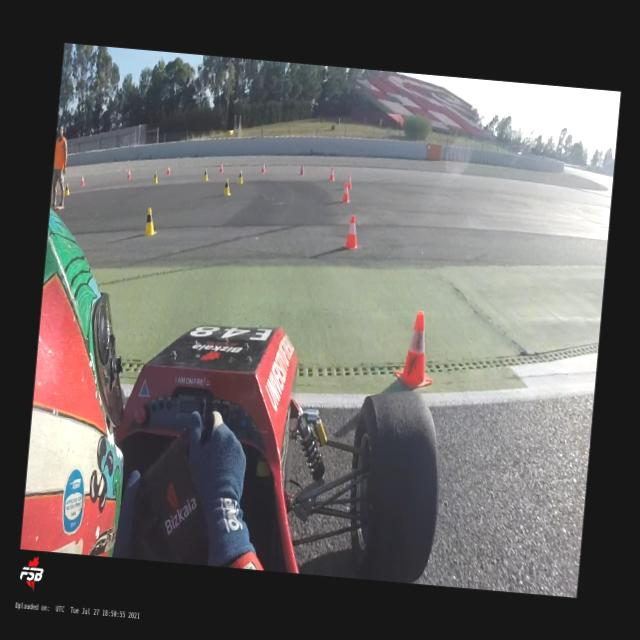orange_cone: (394, 309, 438, 390), (344, 214, 361, 250), (341, 182, 351, 204), (328, 167, 336, 180), (346, 173, 352, 190), (298, 163, 304, 176), (126, 168, 132, 180), (218, 162, 224, 174), (260, 162, 266, 173), (80, 174, 85, 186), (166, 164, 170, 175)
yellow_cone: (142, 206, 158, 236), (222, 178, 232, 196), (202, 168, 209, 181), (236, 170, 243, 183), (152, 170, 158, 183), (64, 182, 70, 195)
